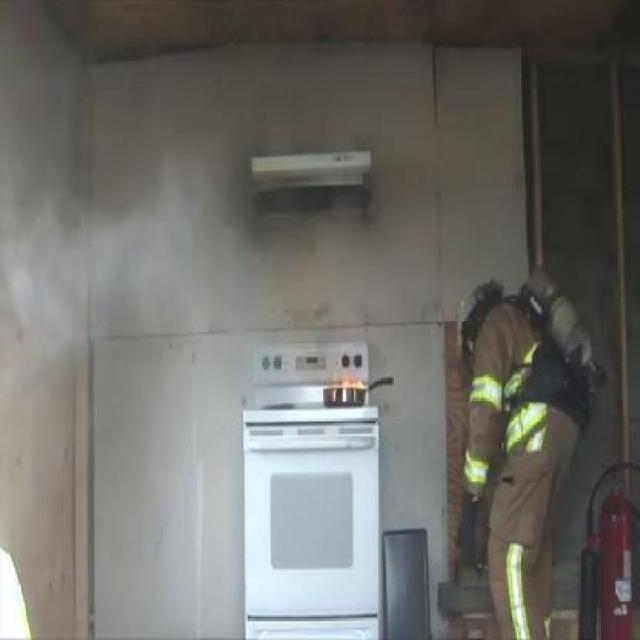fire: (324, 377, 368, 392)
smoke: (28, 186, 217, 360)
